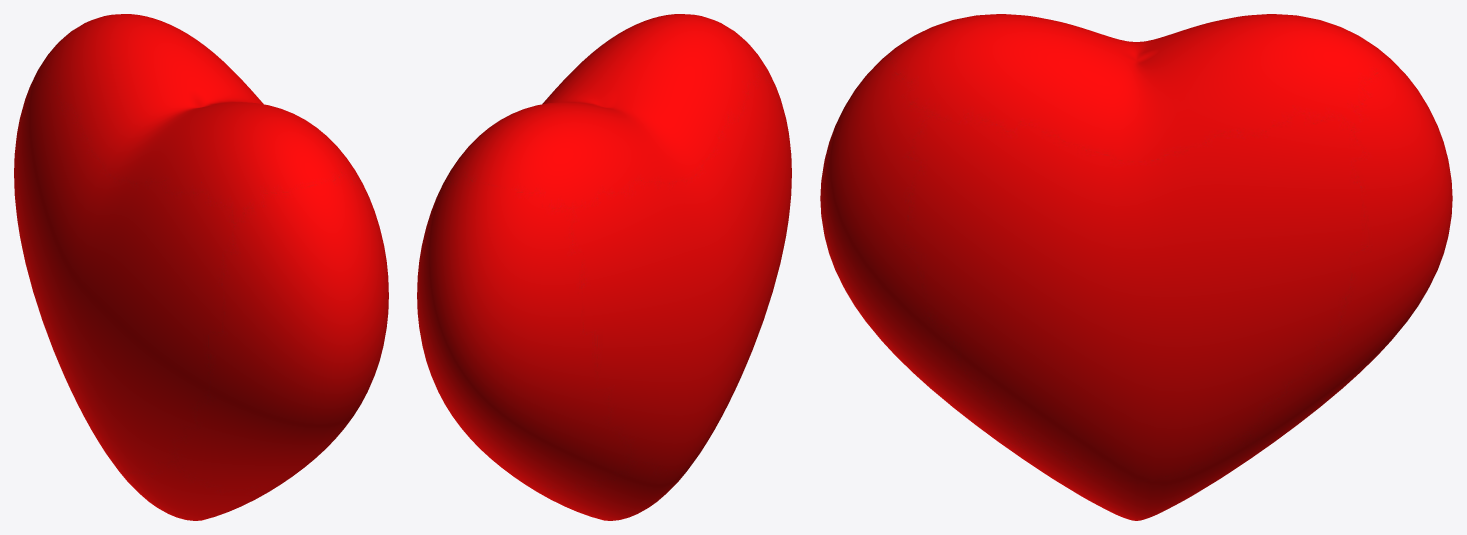
The model's file is 3D_heart.gltf.
3 renders of one model, left to right at view 1: azimuth 30°, elevation 25°; view 2: azimuth 150°, elevation 25°; view 3: azimuth 270°, elevation 25°, orthographic. The views are drawn at different scales.
Visible parts, largest first — view 1: Sphere.1; view 2: Sphere.1; view 3: Sphere.1.
Boxes of the visible parts, x1,y1,x2,y2 form: Sphere.1: (14,14,388,520); Sphere.1: (417,14,791,520); Sphere.1: (820,14,1452,520).
Bounding box in the file's own units: 102 × 180 × 208.
Materials: 1 (1 with a texture image).
